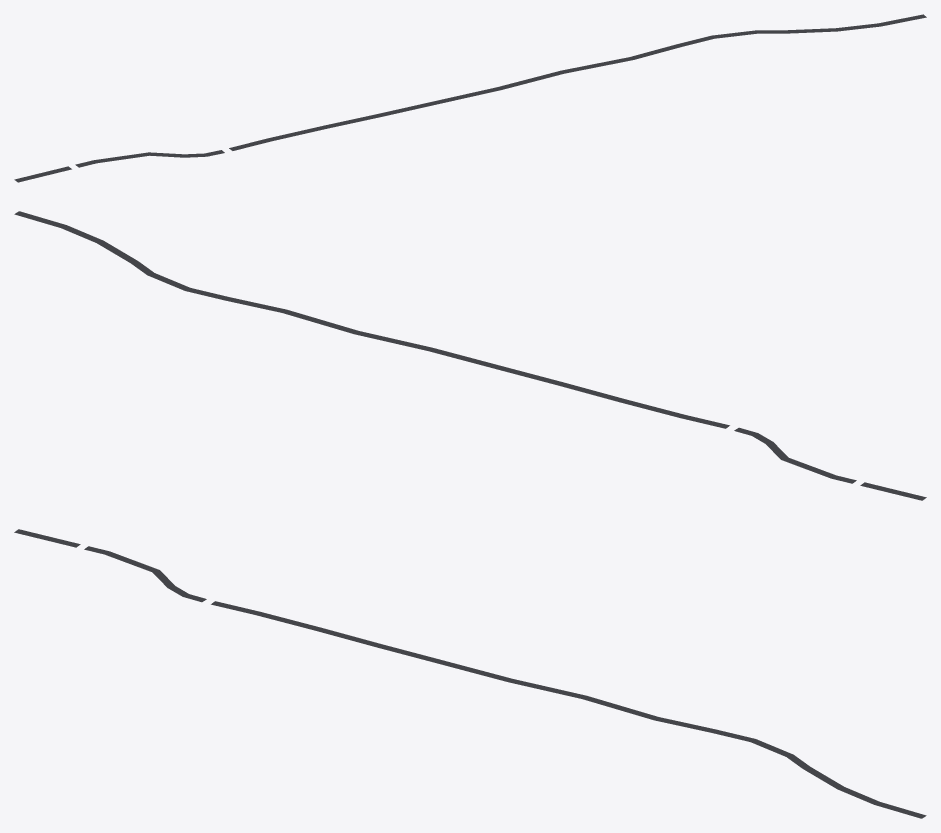
Rendered from district_3_0.glb.
3 renders of one model, top to bottom at view 1: azimuth 30°, elevation 25°; view 2: azimuth 150°, elevation 25°; view 3: azimuth 330°, elevation 25°, orthographic. The views are drawn at different scales.
Parts seen in each view (by area): view 1: Road Весенняя улица; view 2: Road Весенняя улица; view 3: Road Весенняя улица.
Boxes of the visible parts, box(x1,y1,x2,y2) form: Road Весенняя улица: box(14, 14, 926, 182); Road Весенняя улица: box(14, 211, 926, 500); Road Весенняя улица: box(14, 529, 926, 818).
Size of the model in its own units: 486 by 0 by 61.36.
Materials: 1 (1 with a texture image).
